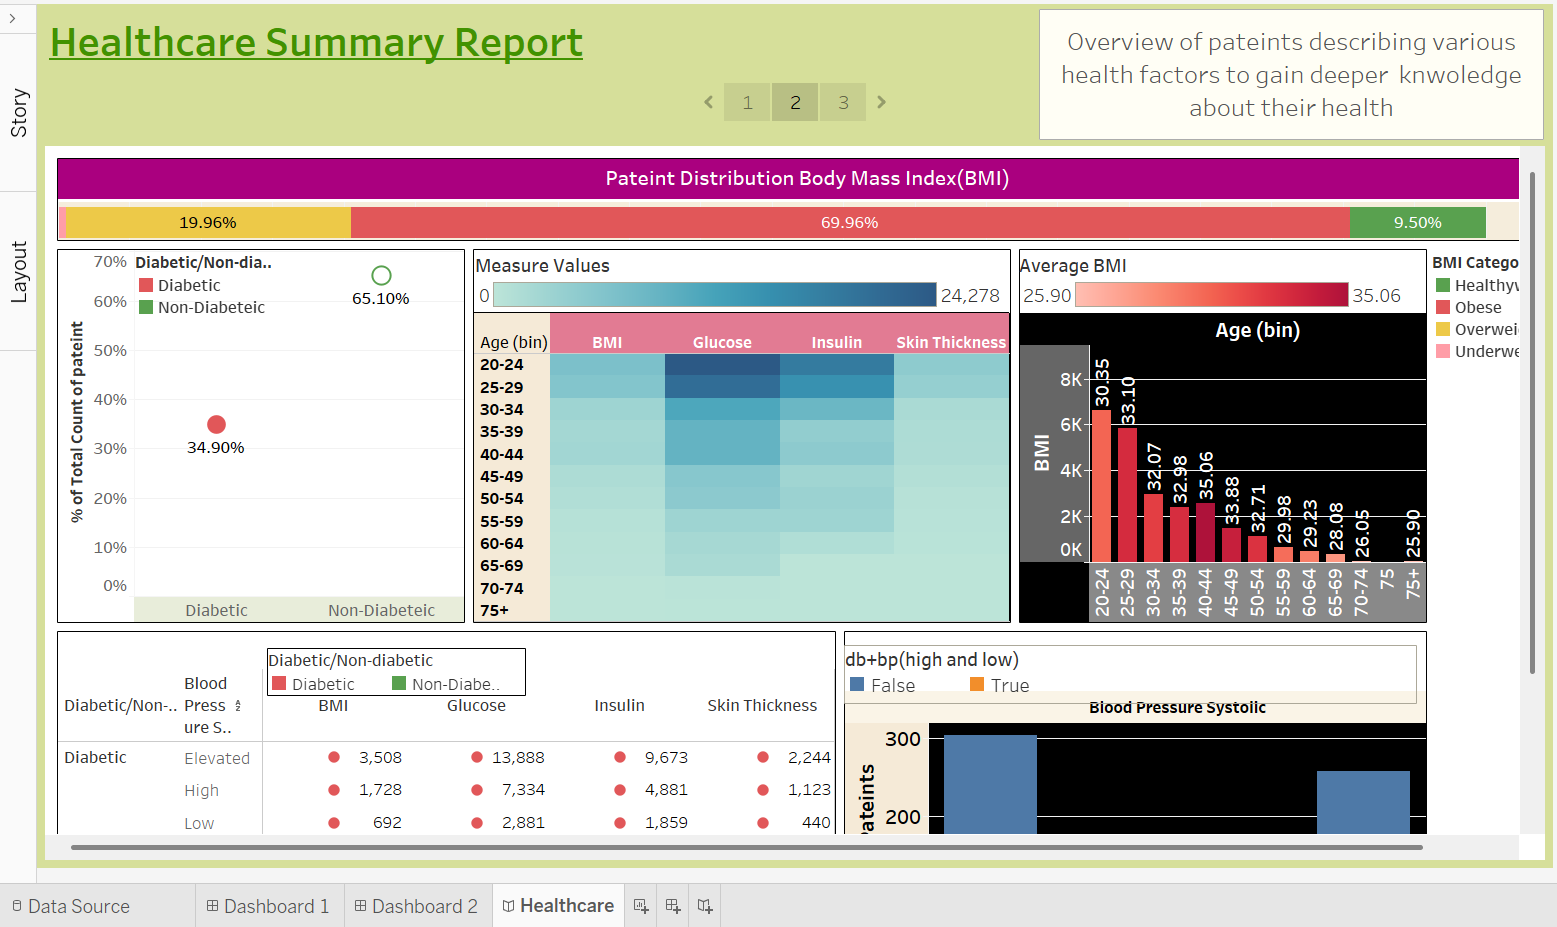

The page's visual inventory and layout, read from the dashboard file:
{"tool":"tableau","page":{"name":"Dashboard 2","canvas":[1550,870],"ordinal":1},"visuals":[{"type":"worksheet","title":"Pateint Distribution BMI","mark":"Automatic","cols":["BMI"],"box":[8,8,1534,91.1]},{"type":"worksheet","title":"Diabetic/Non-diabetic using Shapes","mark":"Shape","cols":["Calculation_992199340387360768"],"box":[8,99.1,415,393.3]},{"type":"worksheet","title":"Heatmap","mark":"Automatic","rows":["Age (bin)"],"box":[423,99.1,544,393.3]},{"type":"worksheet","title":"Histogram BMI","mark":"Automatic","rows":["BMI"],"cols":["Age (bin)"],"box":[967,99.1,415,393.3]},{"type":"legend","title":"Pateint Distribution BMI","param":"[federated.0jqhy5803628c114ufn9w1c0k48z].[none:Calculation_992199340427976708:nk","box":[1387,105,140,114]},{"type":"legend","title":"Diabetic/Non-diabetic using Shapes","param":"[federated.0jqhy5803628c114ufn9w1c0k48z].[none:Calculation_992199340387360768:nk","box":[90,105.4,140,91.1]},{"type":"legend","title":"Heatmap","param":"[federated.0jqhy5803628c114ufn9w1c0k48z].[Multiple Values]","box":[430,106,530,65]},{"type":"legend","title":"Histogram BMI","param":"[federated.0jqhy5803628c114ufn9w1c0k48z].[usr:Calculation_992199340426121219:qk]","box":[974,106,387,60]},{"type":"worksheet","title":"Patient summary by Blood Pressure category","mark":"Shape","rows":["Calculation_992199340387360768","Blood Pressure Systolic"],"box":[8,492.4,785,369.5]},{"type":"worksheet","title":"Bar Chart by BP and Db","mark":"Automatic","rows":["Healthcare Data.csv_40284FCC7A654213B817A6AC8BAE9A42"],"cols":["Blood Pressure Systolic"],"box":[793,492.4,589,369.5]},{"type":"legend","title":"Bar Chart by BP and Db","param":"[federated.0jqhy5803628c114ufn9w1c0k48z].[none:Calculation_992199340430114822:nk","box":[799,499,573,59]},{"type":"legend","title":"Patient summary by Blood Pressure category","param":"[federated.0jqhy5803628c114ufn9w1c0k48z].[__tableau_internal_object_id__].[cnt:H","box":[486,501,296,50]},{"type":"legend","title":"Patient summary by Blood Pressure category","param":"[federated.0jqhy5803628c114ufn9w1c0k48z].[none:Calculation_992199340387360768:nk","box":[222,502,259,48]}]}

Visuals, with their boxes on the page's 1550x870 design canvas (x1, y1, x2, y2). These are canvas units, not pixel positions in the 1557x927 screenshot, which may show the page scaled, cropped or inside an application window:
"Pateint Distribution BMI" worksheet: 8,8,1542,99
"Diabetic/Non-diabetic using Shapes" worksheet (Shape marks): 8,99,423,492
"Heatmap" worksheet: 423,99,967,492
"Histogram BMI" worksheet: 967,99,1382,492
"Pateint Distribution BMI" legend: 1387,105,1527,219
"Diabetic/Non-diabetic using Shapes" legend: 90,105,230,196
"Heatmap" legend: 430,106,960,171
"Histogram BMI" legend: 974,106,1361,166
"Patient summary by Blood Pressure category" worksheet (Shape marks): 8,492,793,862
"Bar Chart by BP and Db" worksheet: 793,492,1382,862
"Bar Chart by BP and Db" legend: 799,499,1372,558
"Patient summary by Blood Pressure category" legend: 486,501,782,551
"Patient summary by Blood Pressure category" legend: 222,502,481,550
